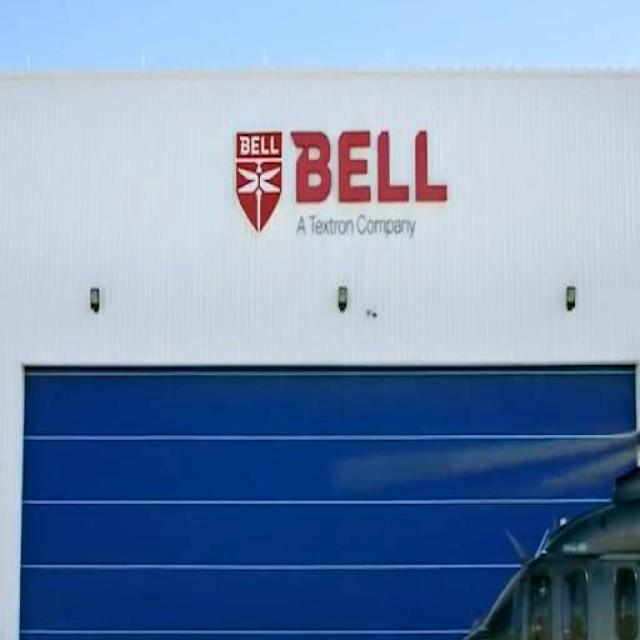drone: (435, 395, 640, 640)
